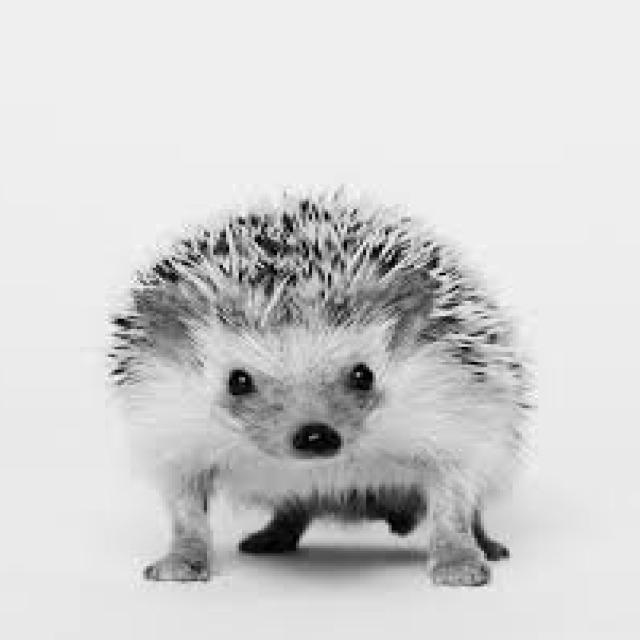hedgehog: (111, 191, 532, 584)
